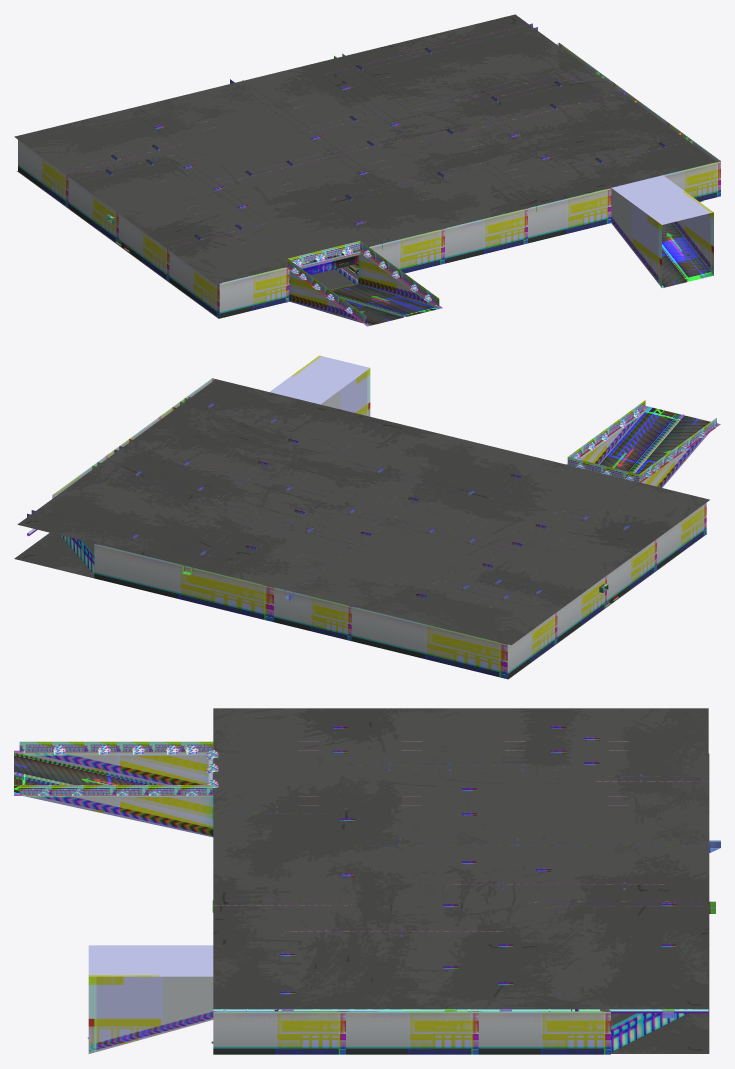
File: ham ligtingmap ok1.FBX
3 renders of one model, top to bottom at view 1: azimuth 30°, elevation 25°; view 2: azimuth 150°, elevation 25°; view 3: azimuth 270°, elevation 25°, orthographic. The views are drawn at different scales.
Visible parts, largest first — view 1: map ham; view 2: map ham; view 3: map ham.
Part boxes in pixels (<box>): map ham: <box>14,14,720,326</box>; map ham: <box>14,355,720,679</box>; map ham: <box>14,708,720,1054</box>.
Size of the model in its own units: 16139 by 2174 by 15869.
